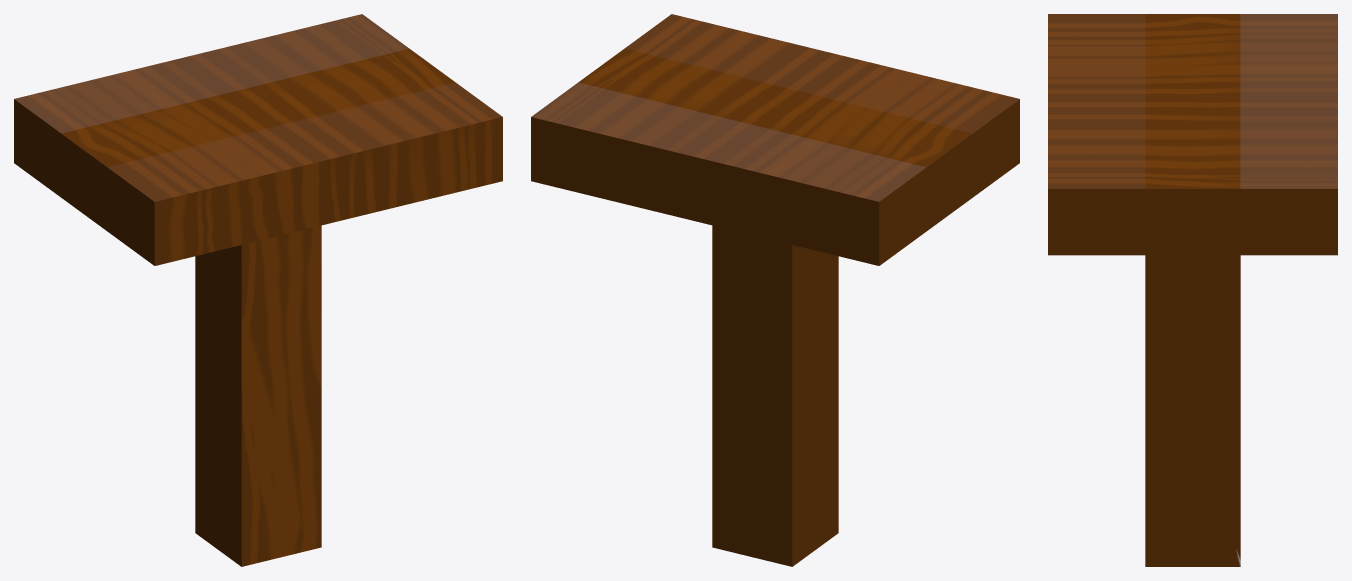
File: 3x3ObjPlatfrom.fbx
The picture shows the model from 3 angles, left to right: view 1: azimuth 30°, elevation 25°; view 2: azimuth 150°, elevation 25°; view 3: azimuth 270°, elevation 25°; orthographic projection. The views are drawn at different scales.
Parts seen in each view (by area): view 1: Cube; view 2: Cube; view 3: Cube.
Boxes of the visible parts, bbox=[...] form: Cube: bbox=[14, 14, 502, 566]; Cube: bbox=[531, 14, 1019, 566]; Cube: bbox=[1048, 14, 1337, 566].
Size of the model in its own units: 872 by 1034 by 610.
